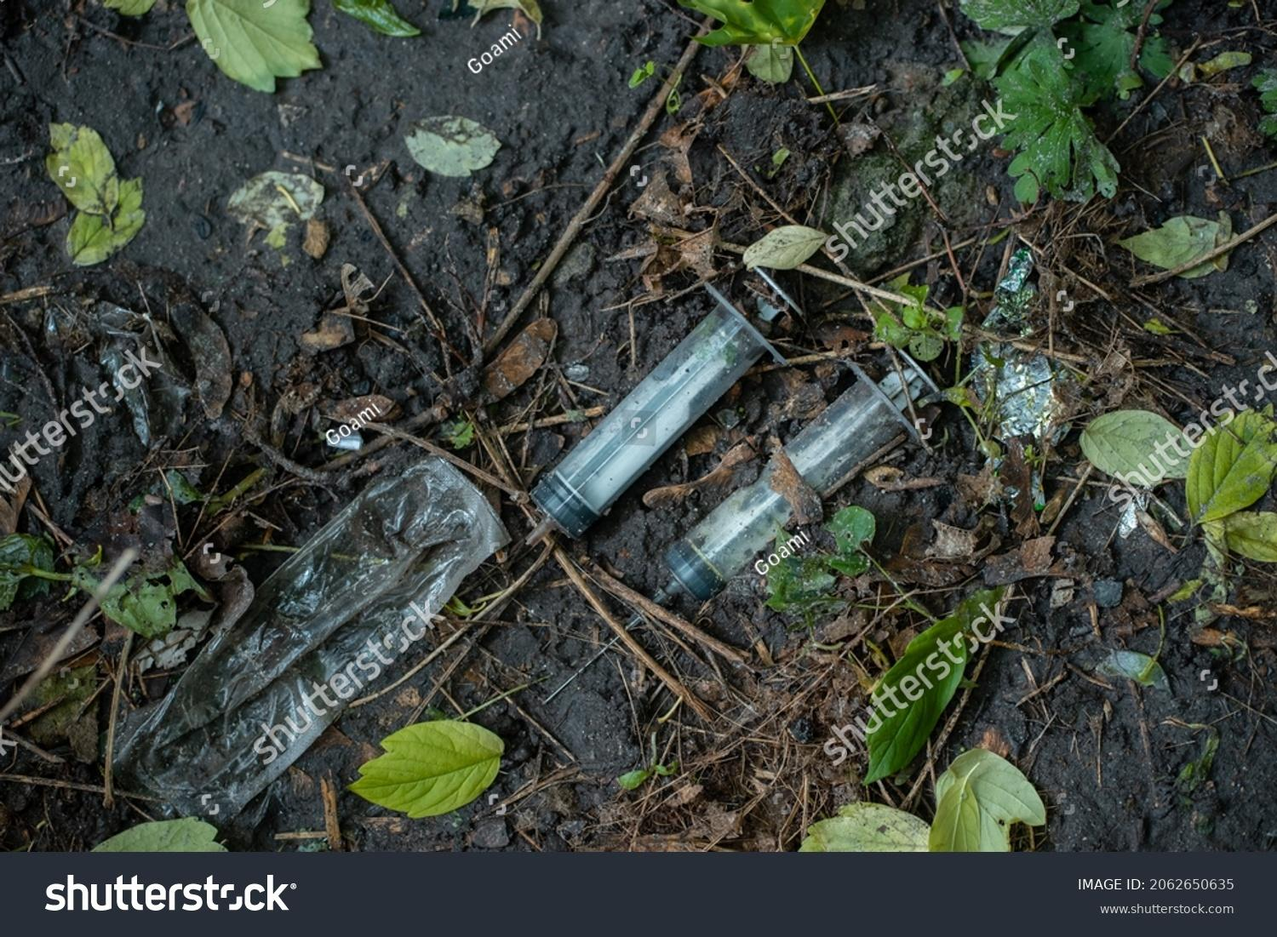Syringe: (529, 284, 783, 541), (785, 355, 938, 496), (785, 361, 937, 495)
